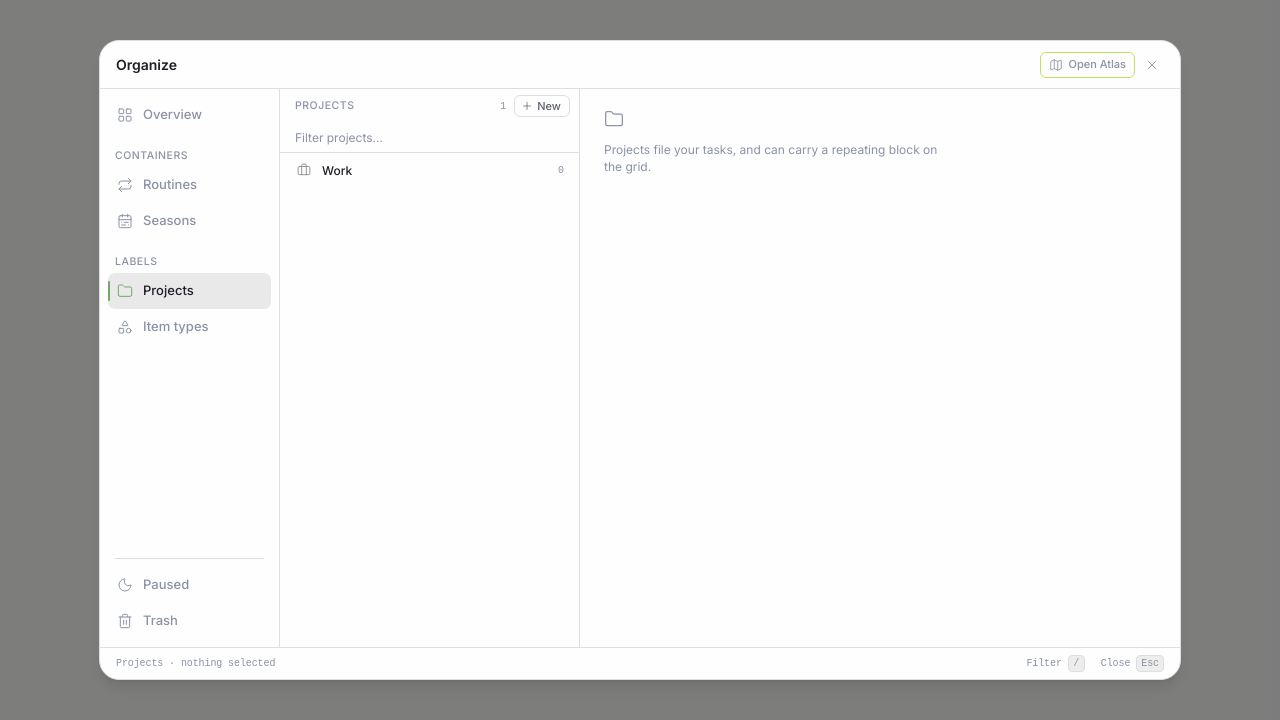
Test: creating a project whose name the Trash still holds › refuses it OUT LOUD on the create form, and disables the button
Click the button with test id "project-new": (542, 106) left=514, top=95, right=570, bottom=117
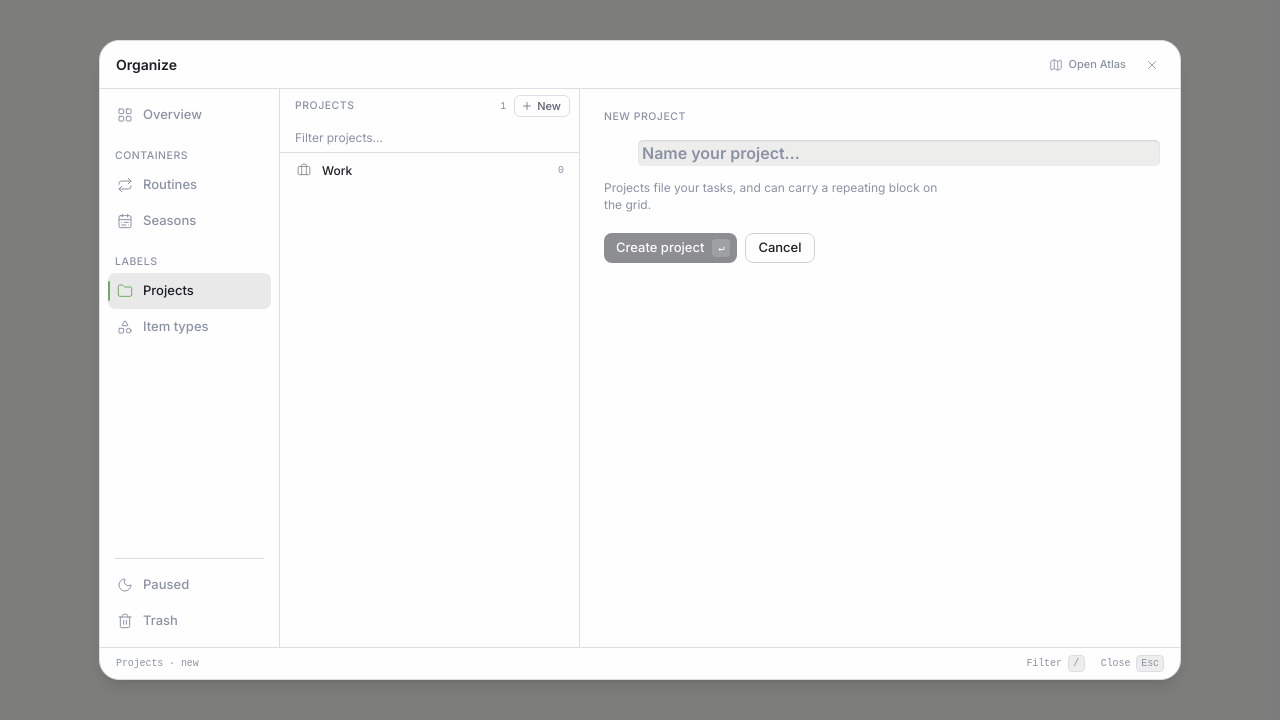
In the field with test id "project-new-name": (899, 153) left=638, top=140, right=1160, bottom=166, type "Ghost"
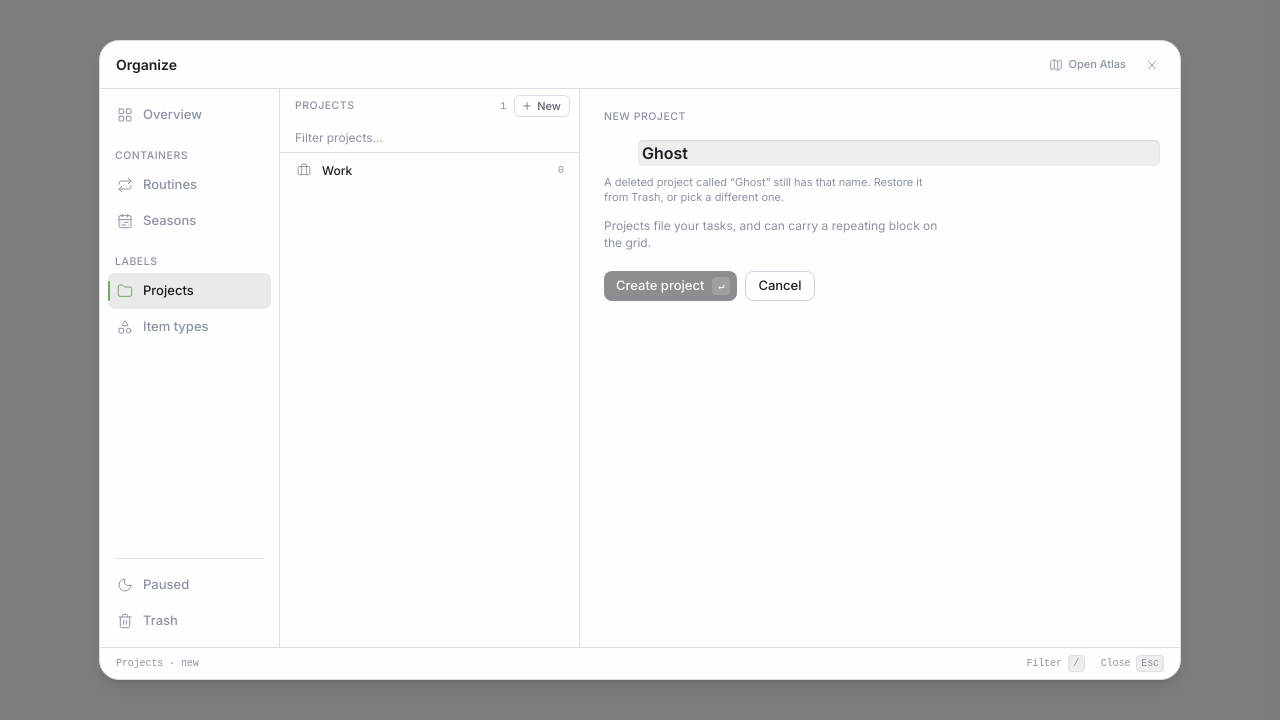
Now the button with test id "project-add" is disabled, box left=604, top=271, right=737, bottom=301
Now the text with test id "project-new-problem" shows "Trash", box left=604, top=175, right=923, bottom=204
